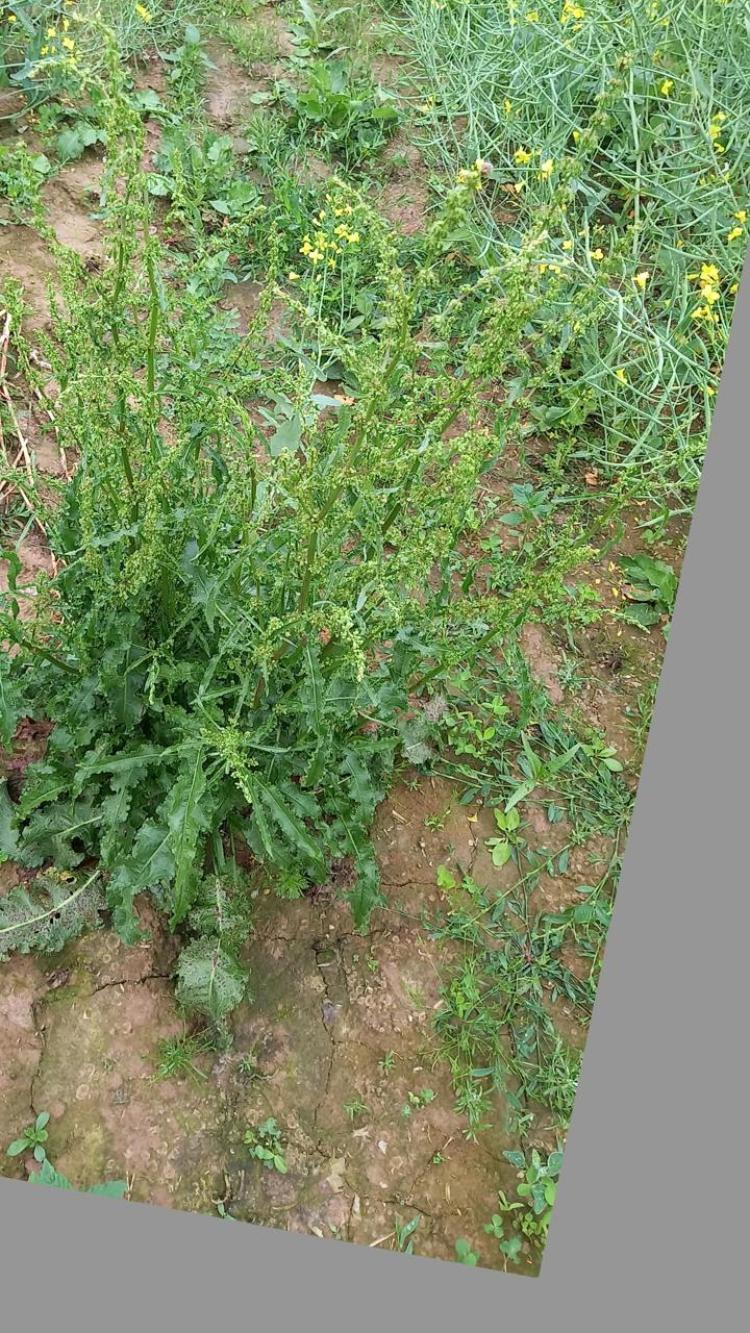zhavel: (17, 254, 510, 1012)
